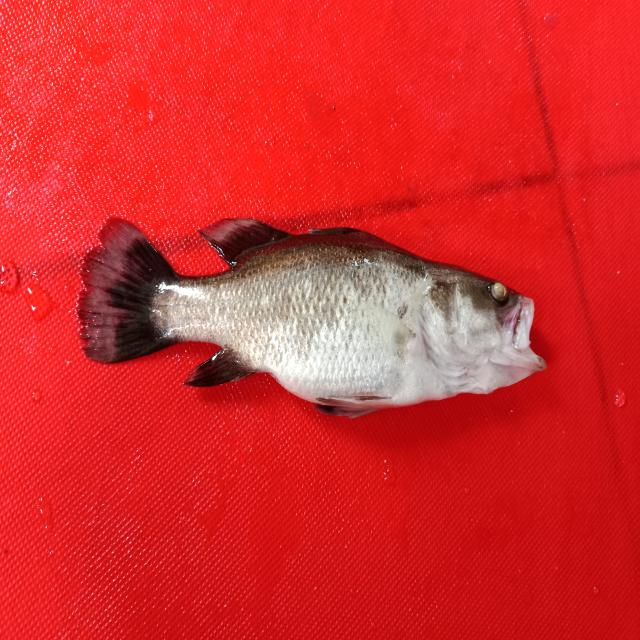ikan: (68, 184, 560, 431)
